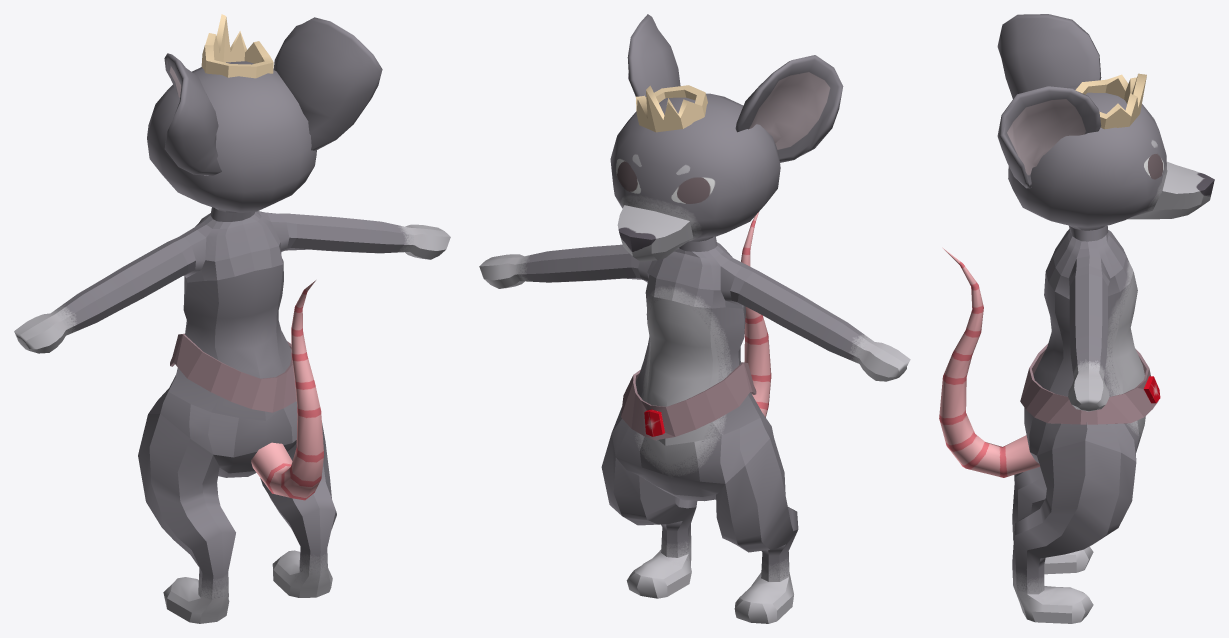
File: TonyMouse.fbx
The picture shows the model from 3 angles, left to right: view 1: azimuth 30°, elevation 25°; view 2: azimuth 150°, elevation 25°; view 3: azimuth 270°, elevation 25°; orthographic projection. The views are drawn at different scales.
Parts seen in each view (by area): view 1: Cuerpo1, Orejas, Cola, Cinturon, Corona; view 2: Cuerpo1, Orejas, Cinturon, Corona, Cola; view 3: Cuerpo1, Orejas, Cola, Cinturon, Corona.
Part boxes in pixels (x1,y1,x2,y2): Cuerpo1: (14, 61, 450, 623); Orejas: (164, 17, 382, 175); Cola: (251, 280, 323, 500); Cinturon: (170, 333, 296, 412); Corona: (201, 14, 273, 78); Cuerpo1: (479, 93, 910, 623); Orejas: (627, 14, 843, 162); Cinturon: (621, 362, 756, 440); Corona: (635, 85, 707, 132); Cola: (741, 212, 771, 417); Cuerpo1: (1008, 85, 1214, 623); Orejas: (997, 14, 1101, 188); Cola: (939, 247, 1039, 477); Cinturon: (1020, 343, 1160, 424); Corona: (1075, 73, 1146, 129).
Bounding box in the file's own units: 97.14 × 122 × 56.75.
5 materials, 5 textured.
